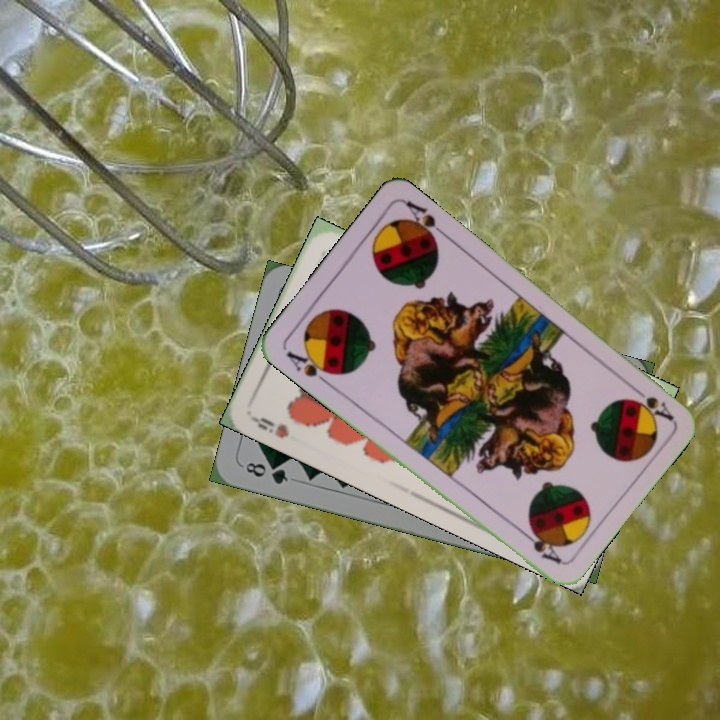G8: (238, 458, 291, 487)
H9: (249, 413, 291, 441)
SA: (282, 345, 338, 388), (626, 380, 676, 424)
